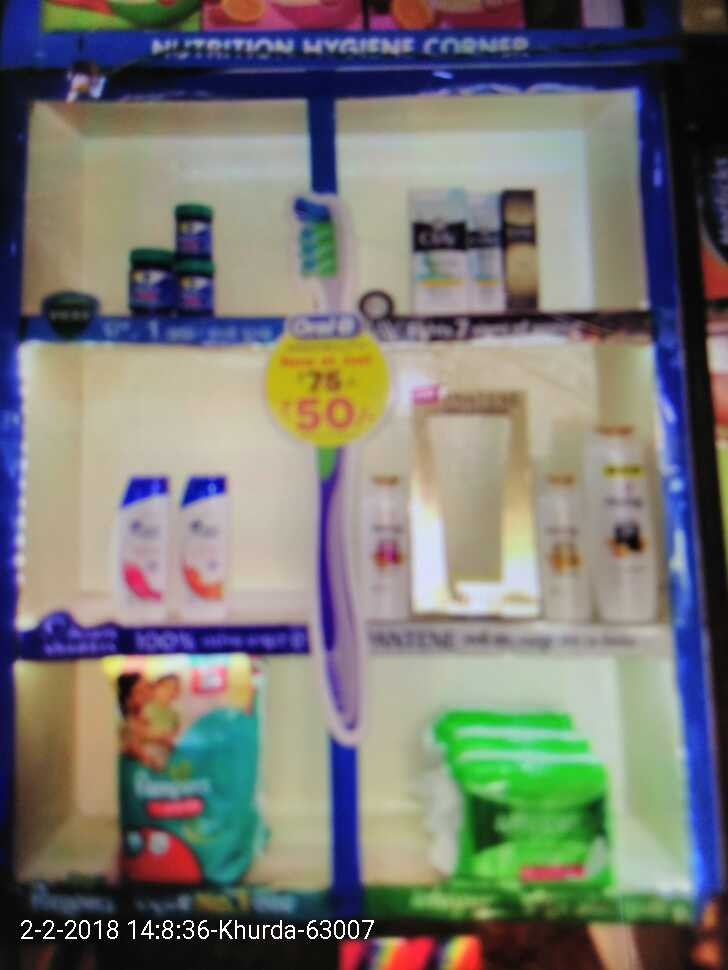vicks: (111, 186, 244, 330)
